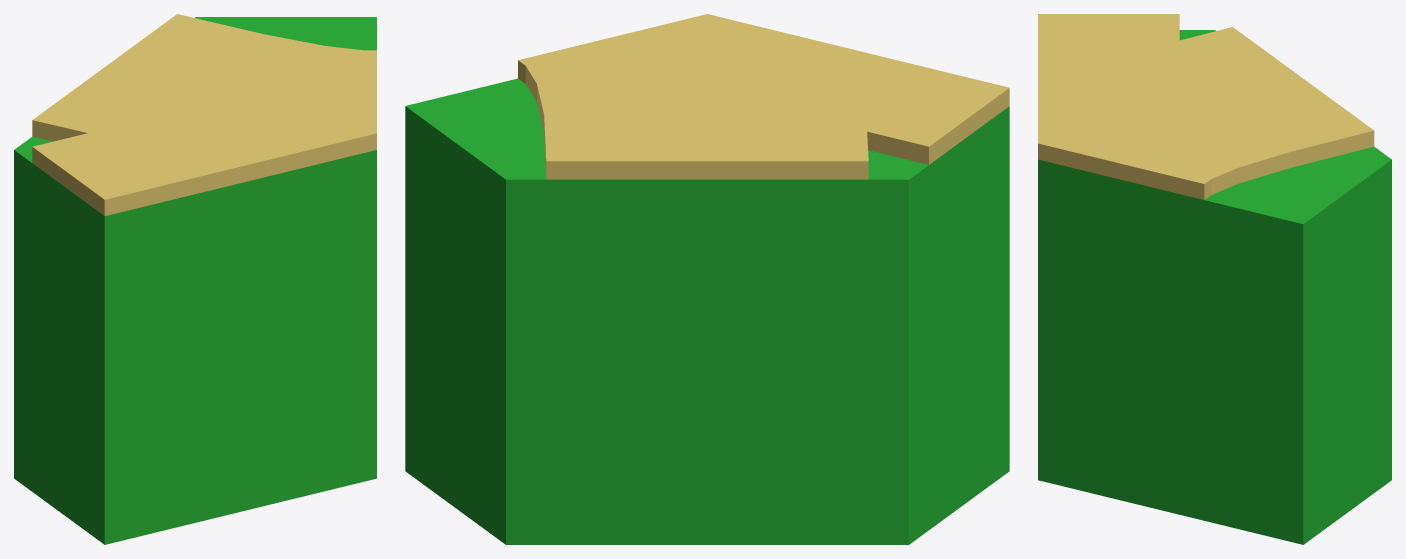
Rendered from module-corner_land_path_right_002.glb.
3 views of the same model, side by side, from view 1: azimuth 30°, elevation 25°; view 2: azimuth 150°, elevation 25°; view 3: azimuth 270°, elevation 25° (orthographic). The views are drawn at different scales.
Parts seen in each view (by area): view 1: module-corner_land_path_right_002; view 2: module-corner_land_path_right_002; view 3: module-corner_land_path_right_002.
Boxes of the visible parts, x1,y1,x2,y2 form: module-corner_land_path_right_002: (14,14,376,544); module-corner_land_path_right_002: (405,14,1009,544); module-corner_land_path_right_002: (1038,14,1391,544).
Size of the model in its own units: 0.6495 by 0.525 by 0.5.
